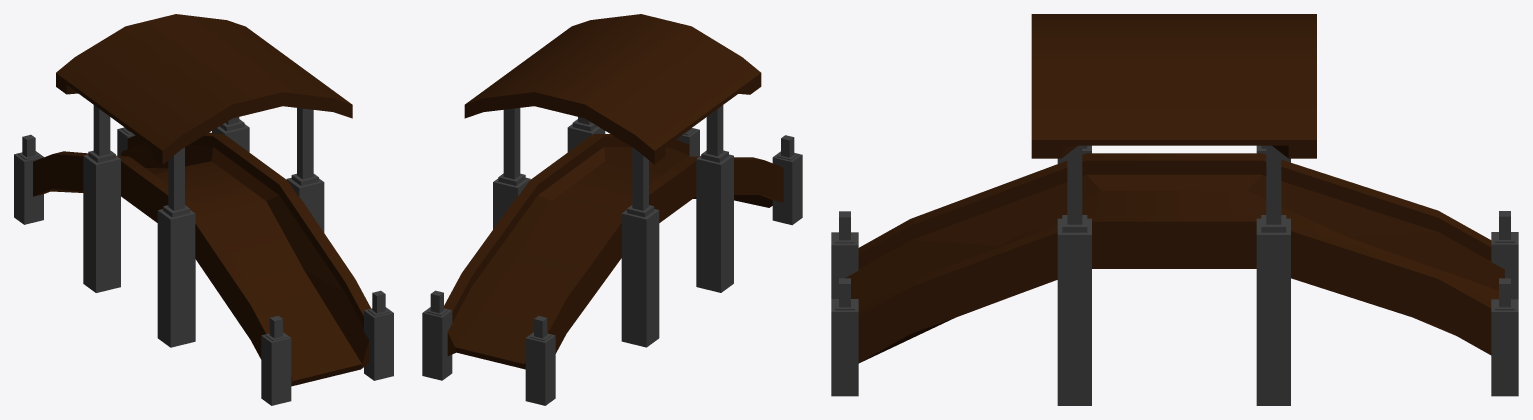
File: Bridge_low_poly.glb
3 renders of one model, left to right at view 1: azimuth 30°, elevation 25°; view 2: azimuth 150°, elevation 25°; view 3: azimuth 270°, elevation 25°, orthographic. The views are drawn at different scales.
Visible parts, largest first — view 1: polySurface3_lambert4_0, polySurface4_lambert5_0, polySurface5_lambert3_0, polySurface8_lambert3_0, polySurface9_lambert3_0, polySurface2_lambert3_0, polySurface10_lambert3_0, polySurface1_lambert3_0, polySurface7_lambert3_0; view 2: polySurface3_lambert4_0, polySurface4_lambert5_0, polySurface8_lambert3_0, polySurface5_lambert3_0, polySurface1_lambert3_0, polySurface7_lambert3_0, polySurface6_lambert3_0, polySurface9_lambert3_0, polySurface2_lambert3_0, polySurface10_lambert3_0; view 3: polySurface3_lambert4_0, polySurface4_lambert5_0, polySurface7_lambert3_0, polySurface2_lambert3_0, polySurface6_lambert3_0, polySurface10_lambert3_0, polySurface9_lambert3_0, polySurface1_lambert3_0.
Boxes of the visible parts, x1=… form: polySurface3_lambert4_0: x1=33, y1=132, x2=370, y2=386; polySurface4_lambert5_0: x1=56, y1=14, x2=352, y2=164; polySurface5_lambert3_0: x1=157, y1=147, x2=195, y2=347; polySurface8_lambert3_0: x1=83, y1=105, x2=120, y2=292; polySurface9_lambert3_0: x1=261, y1=315, x2=291, y2=405; polySurface2_lambert3_0: x1=286, y1=108, x2=324, y2=232; polySurface10_lambert3_0: x1=364, y1=290, x2=393, y2=380; polySurface1_lambert3_0: x1=14, y1=134, x2=43, y2=224; polySurface7_lambert3_0: x1=212, y1=117, x2=249, y2=152; polySurface3_lambert4_0: x1=444, y1=134, x2=783, y2=369; polySurface4_lambert5_0: x1=464, y1=14, x2=761, y2=164; polySurface8_lambert3_0: x1=621, y1=147, x2=659, y2=347; polySurface5_lambert3_0: x1=696, y1=105, x2=733, y2=292; polySurface1_lambert3_0: x1=525, y1=315, x2=555, y2=405; polySurface7_lambert3_0: x1=493, y1=108, x2=530, y2=229; polySurface6_lambert3_0: x1=422, y1=290, x2=452, y2=380; polySurface9_lambert3_0: x1=772, y1=135, x2=802, y2=225; polySurface2_lambert3_0: x1=567, y1=117, x2=605, y2=152; polySurface10_lambert3_0: x1=676, y1=128, x2=699, y2=156; polySurface3_lambert4_0: x1=845, y1=153, x2=1504, y2=363; polySurface4_lambert5_0: x1=1031, y1=14, x2=1316, y2=158; polySurface7_lambert3_0: x1=1256, y1=145, x2=1290, y2=405; polySurface2_lambert3_0: x1=1057, y1=145, x2=1091, y2=405; polySurface6_lambert3_0: x1=1491, y1=278, x2=1518, y2=396; polySurface10_lambert3_0: x1=831, y1=278, x2=858, y2=396; polySurface9_lambert3_0: x1=831, y1=211, x2=858, y2=298; polySurface1_lambert3_0: x1=1491, y1=211, x2=1518, y2=299.
Size of the model in its own units: 0.0984 by 0.1178 by 0.231.
